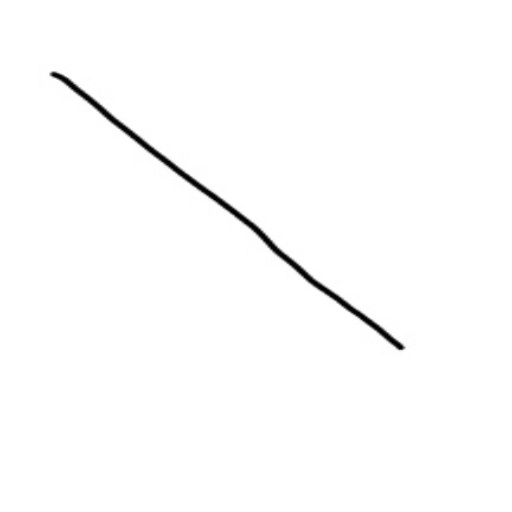line: (47, 68, 414, 358)
